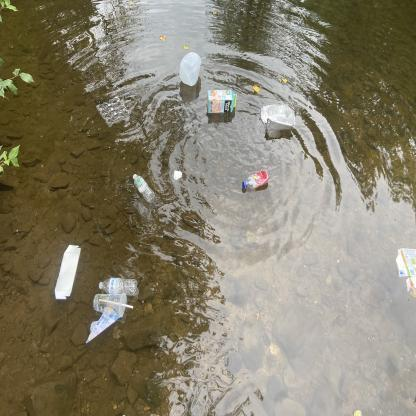trash: (50, 241, 83, 303), (386, 242, 416, 301), (83, 305, 124, 344), (257, 100, 301, 136), (87, 291, 138, 318), (202, 84, 240, 117), (95, 94, 130, 129), (176, 50, 204, 87), (240, 166, 274, 194), (97, 276, 140, 297), (131, 171, 158, 204), (172, 168, 184, 182)
